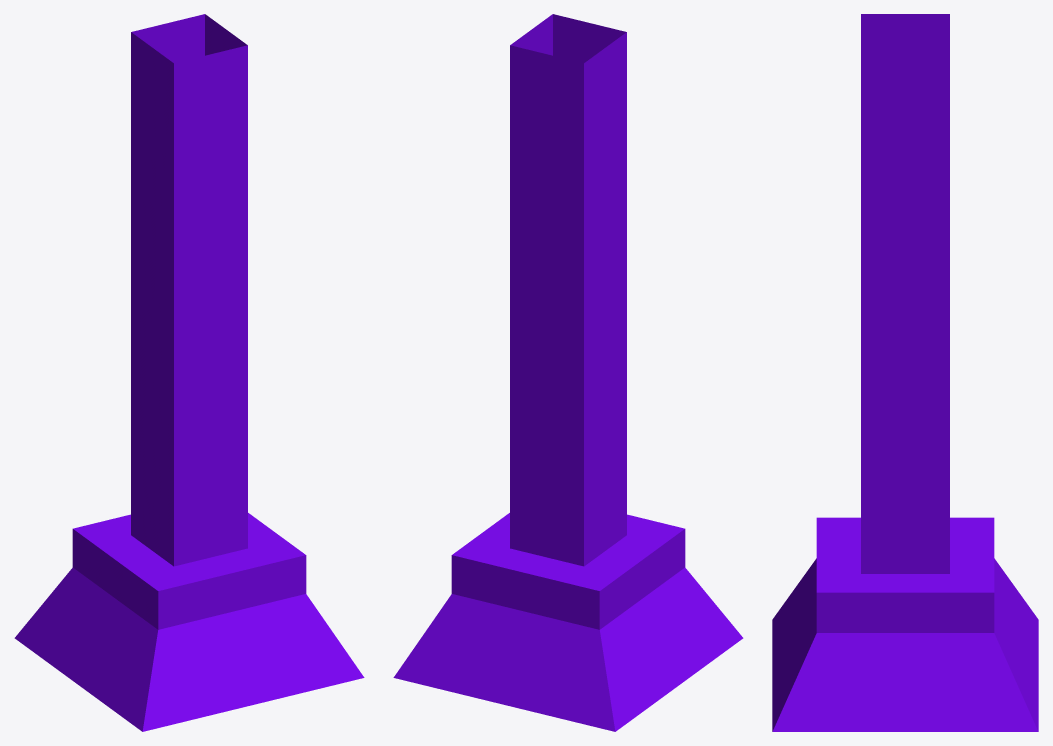
Rendered from None_G_G_E_E_G_G_E_E_BigStrut.fbx.
The picture shows the model from 3 angles, left to right: view 1: azimuth 30°, elevation 25°; view 2: azimuth 150°, elevation 25°; view 3: azimuth 270°, elevation 25°; orthographic projection. The views are drawn at different scales.
Visible parts, largest first — view 1: None_G_G_E_E_G_G_E_E_BigStrut; view 2: None_G_G_E_E_G_G_E_E_BigStrut; view 3: None_G_G_E_E_G_G_E_E_BigStrut.
Boxes of the visible parts, x1=… form: None_G_G_E_E_G_G_E_E_BigStrut: x1=14, y1=14, x2=364, y2=731; None_G_G_E_E_G_G_E_E_BigStrut: x1=393, y1=14, x2=743, y2=731; None_G_G_E_E_G_G_E_E_BigStrut: x1=772, y1=14, x2=1038, y2=731.
Size of the model in its own units: 18.75 by 50 by 18.75.
